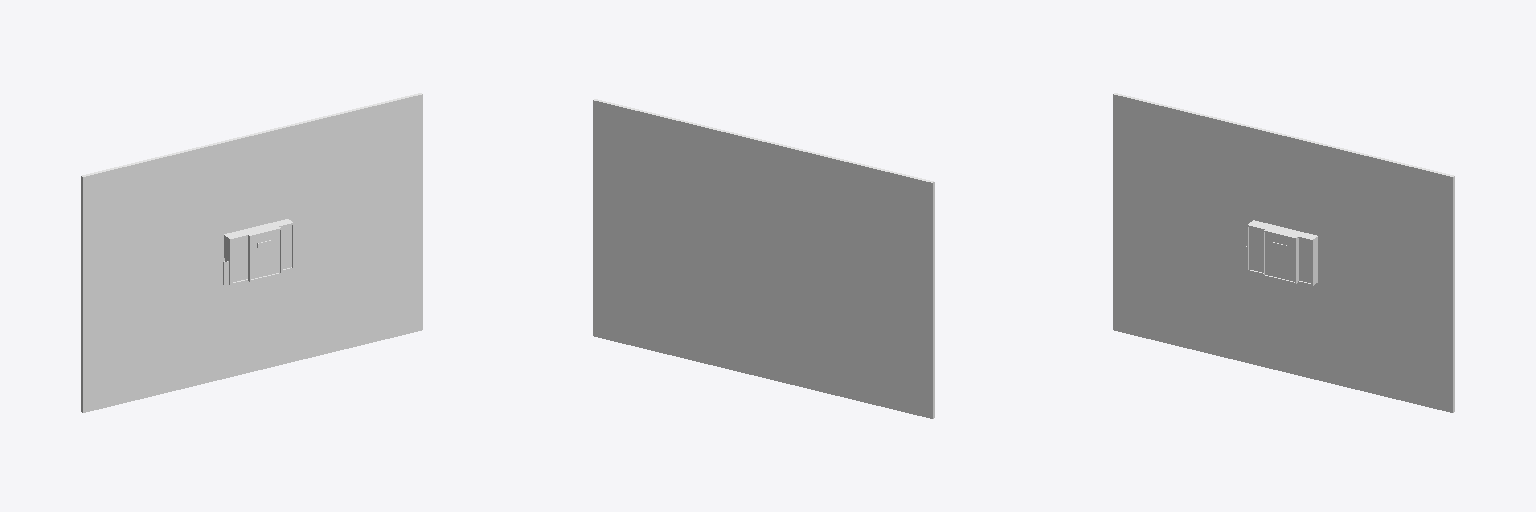
The model's file is UE3DExpositionVerFinale4.obj.
3 views of the same model, side by side, from view 1: azimuth 30°, elevation 25°; view 2: azimuth 150°, elevation 25°; view 3: azimuth 330°, elevation 25° (orthographic).
Parts seen in each view (by area): view 1: Layer_01; view 2: Layer_01; view 3: Layer_01.
Boxes of the visible parts, <box> form: Layer_01: <box>81,93,422,412</box>; Layer_01: <box>593,99,934,418</box>; Layer_01: <box>1113,93,1454,412</box>.
Size of the model in its own units: 98.71 by 65.65 by 5.1.